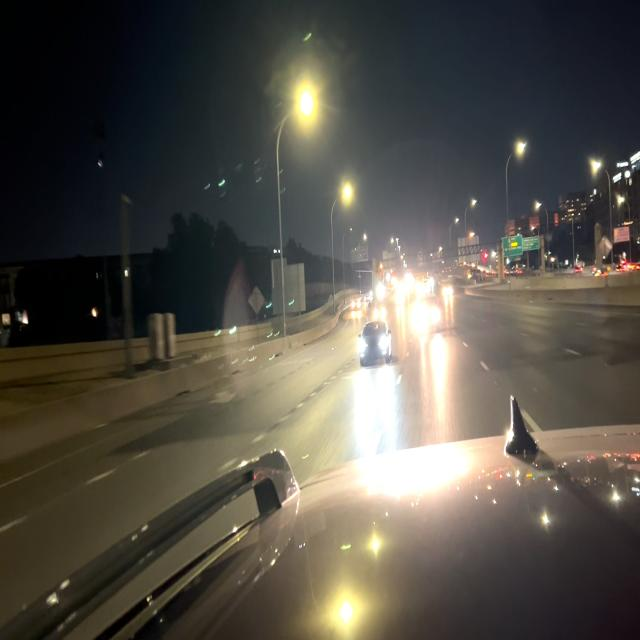back-of-sign: (273, 256, 307, 315), (459, 237, 481, 263), (249, 285, 265, 315)
